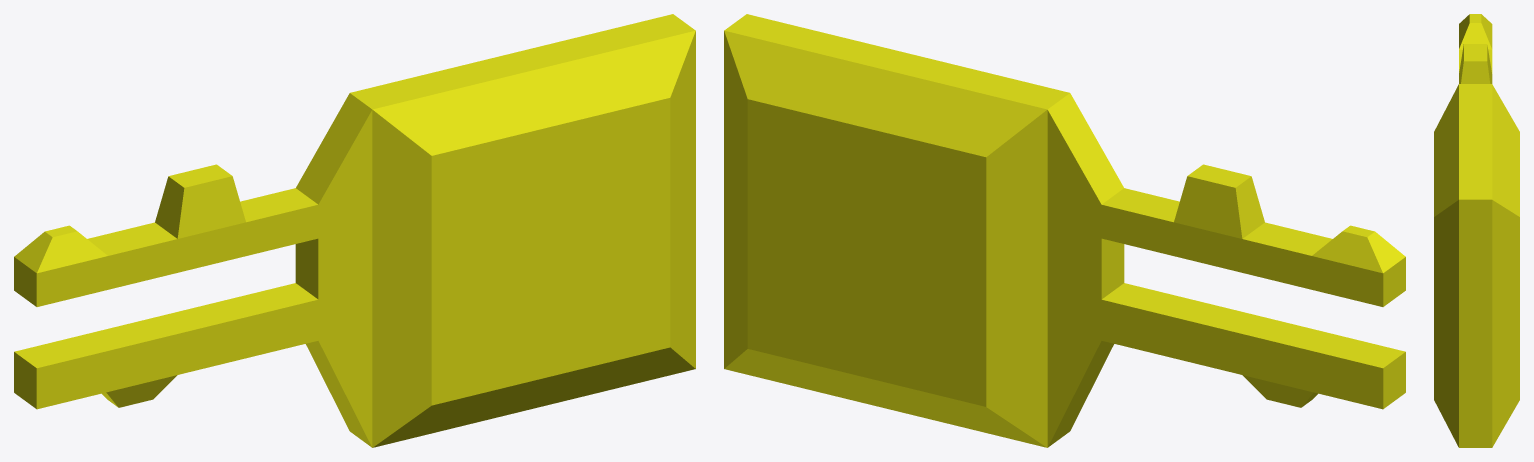
The model's file is yellowKey.fbx.
3 renders of one model, left to right at view 1: azimuth 30°, elevation 25°; view 2: azimuth 150°, elevation 25°; view 3: azimuth 270°, elevation 25°, orthographic. The views are drawn at different scales.
Visible parts, largest first — view 1: Cube.004; view 2: Cube.004; view 3: Cube.004.
Part boxes in pixels (x1,y1,x2,y2): Cube.004: (14, 14, 695, 447); Cube.004: (724, 14, 1405, 447); Cube.004: (1434, 14, 1519, 447).
Bounding box in the file's own units: 77.71 × 38.14 × 11.93.
